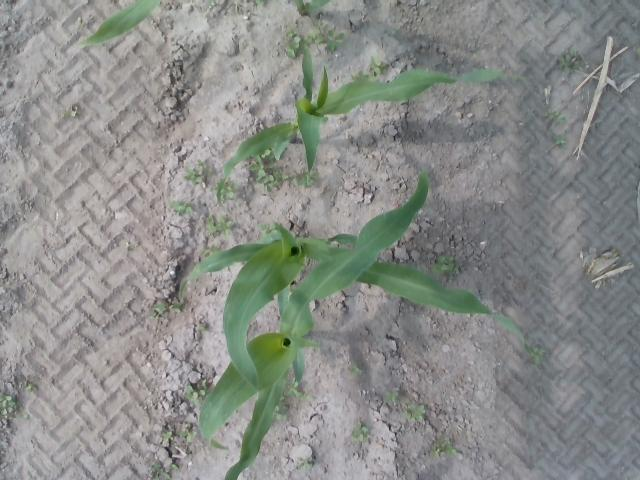Maize: (200, 170, 430, 480), (182, 223, 527, 390), (215, 44, 532, 208), (82, 0, 334, 45)
Weeds: (203, 218, 234, 237), (438, 252, 457, 280), (257, 170, 283, 190), (557, 51, 580, 73), (308, 24, 331, 43), (170, 202, 197, 218), (402, 402, 426, 420), (188, 161, 206, 183), (350, 425, 370, 444), (433, 442, 452, 460), (328, 30, 344, 51), (286, 36, 302, 57), (530, 346, 546, 364), (177, 429, 195, 442), (2, 397, 14, 415), (156, 465, 170, 478), (369, 61, 384, 73), (152, 304, 182, 310), (220, 187, 234, 199), (300, 175, 314, 187), (546, 108, 560, 120), (386, 387, 398, 398), (554, 134, 565, 146), (351, 360, 362, 372), (288, 384, 299, 394), (164, 430, 173, 438), (276, 414, 286, 421)
